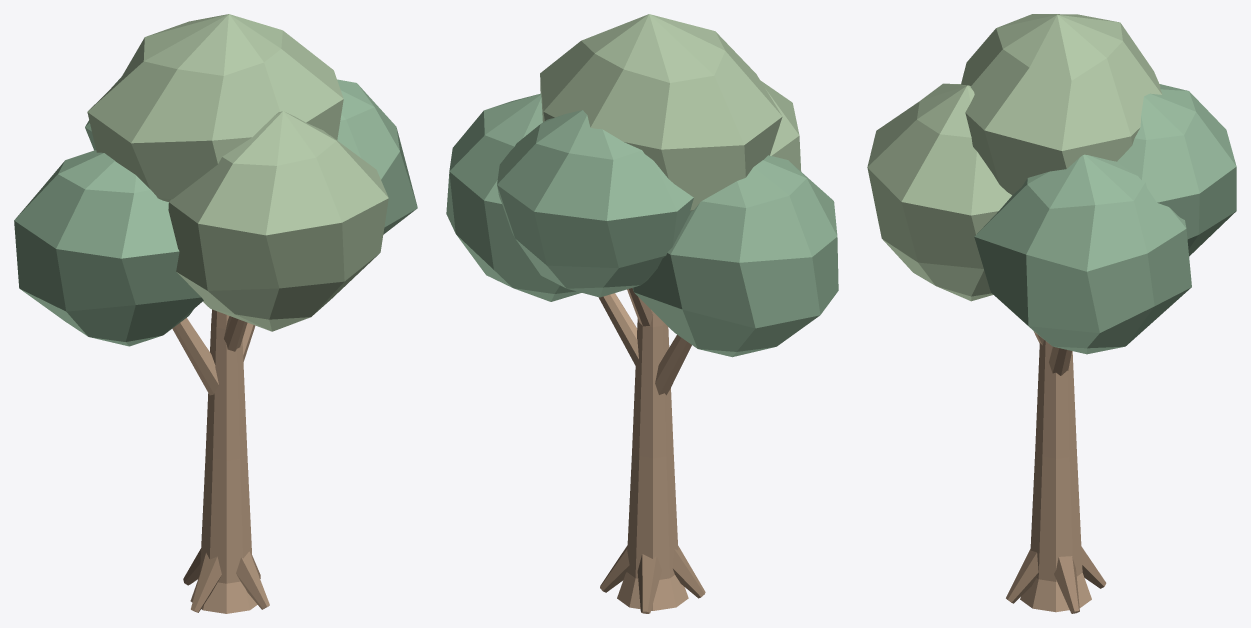
File: broadleaf_tree.glb
3 views of the same model, side by side, from view 1: azimuth 30°, elevation 25°; view 2: azimuth 150°, elevation 25°; view 3: azimuth 270°, elevation 25° (orthographic).
Visible parts, largest first — view 1: broadleaf_crown_2, broadleaf_crown_4, broadleaf_crown_0, broadleaf_trunk, broadleaf_crown_1, broadleaf_limb_0, broadleaf_root_2, broadleaf_root_3, broadleaf_limb_2; view 2: broadleaf_crown_4, broadleaf_crown_0, broadleaf_crown_3, broadleaf_crown_1, broadleaf_trunk, broadleaf_crown_2, broadleaf_limb_1, broadleaf_limb_0, broadleaf_root_1, broadleaf_root_2, broadleaf_root_0; view 3: broadleaf_crown_1, broadleaf_crown_4, broadleaf_crown_2, broadleaf_crown_3, broadleaf_trunk, broadleaf_root_0, broadleaf_root_3, broadleaf_limb_1.
Part boxes in pixels (x1,y1,x2,y2): broadleaf_crown_2: (168, 111, 388, 331); broadleaf_crown_4: (87, 14, 343, 201); broadleaf_crown_0: (14, 150, 203, 346); broadleaf_trunk: (190, 309, 257, 613); broadleaf_crown_1: (337, 79, 417, 234); broadleaf_limb_0: (172, 318, 218, 395); broadleaf_root_2: (191, 553, 221, 612); broadleaf_root_3: (236, 551, 269, 609); broadleaf_limb_2: (224, 316, 247, 351); broadleaf_crown_4: (540, 14, 782, 211); broadleaf_crown_0: (632, 155, 838, 357); broadleaf_crown_3: (497, 110, 693, 297); broadleaf_crown_1: (446, 93, 581, 301); broadleaf_trunk: (617, 311, 688, 610); broadleaf_crown_2: (760, 80, 801, 171); broadleaf_limb_1: (598, 293, 638, 366); broadleaf_limb_0: (655, 335, 691, 395); broadleaf_root_1: (637, 554, 661, 613); broadleaf_root_2: (672, 545, 705, 598); broadleaf_root_0: (600, 545, 629, 592); broadleaf_crown_1: (974, 154, 1191, 354); broadleaf_crown_4: (961, 14, 1162, 195); broadleaf_crown_2: (867, 83, 1011, 301); broadleaf_crown_3: (1117, 84, 1236, 256); broadleaf_trunk: (1020, 340, 1091, 612); broadleaf_root_0: (1054, 556, 1079, 613); broadleaf_root_3: (1006, 549, 1038, 603); broadleaf_limb_1: (1049, 346, 1071, 375).
Size of the model in its own units: 2.24 by 3.34 by 1.92.
